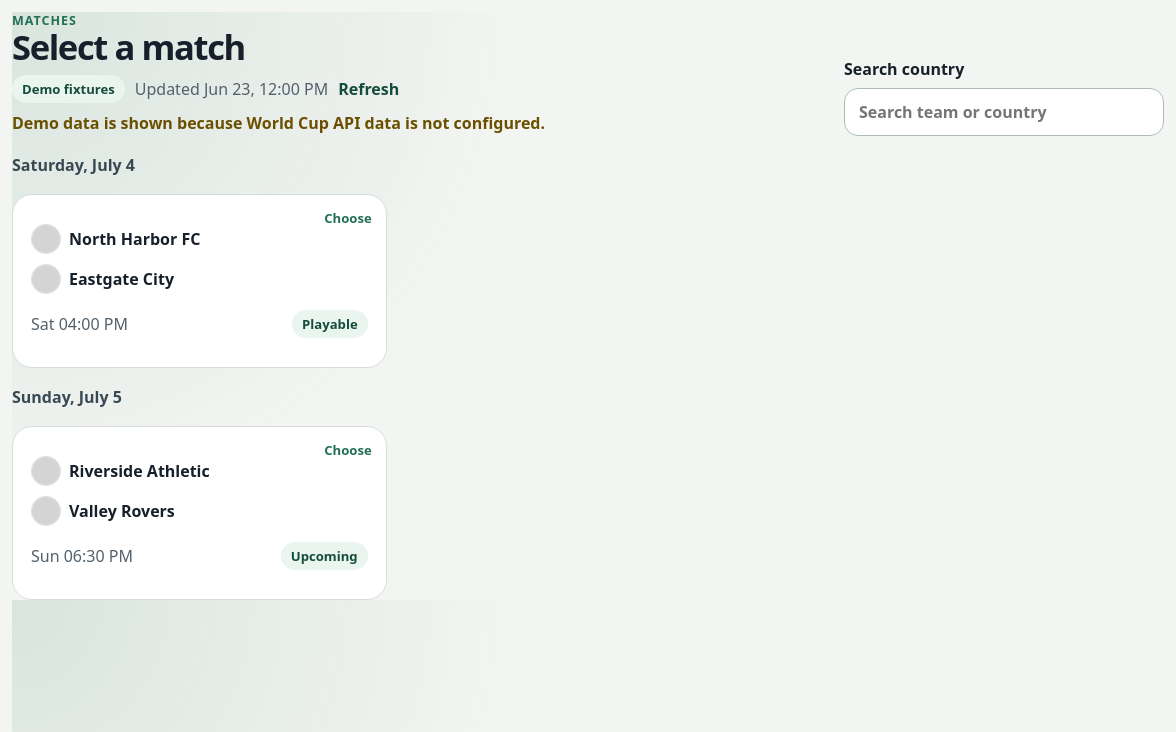
Test: DemoMatchList › refreshes matches without allowing request spam
Click the button "Refresh" at (369, 89), box [338,78,399,100]
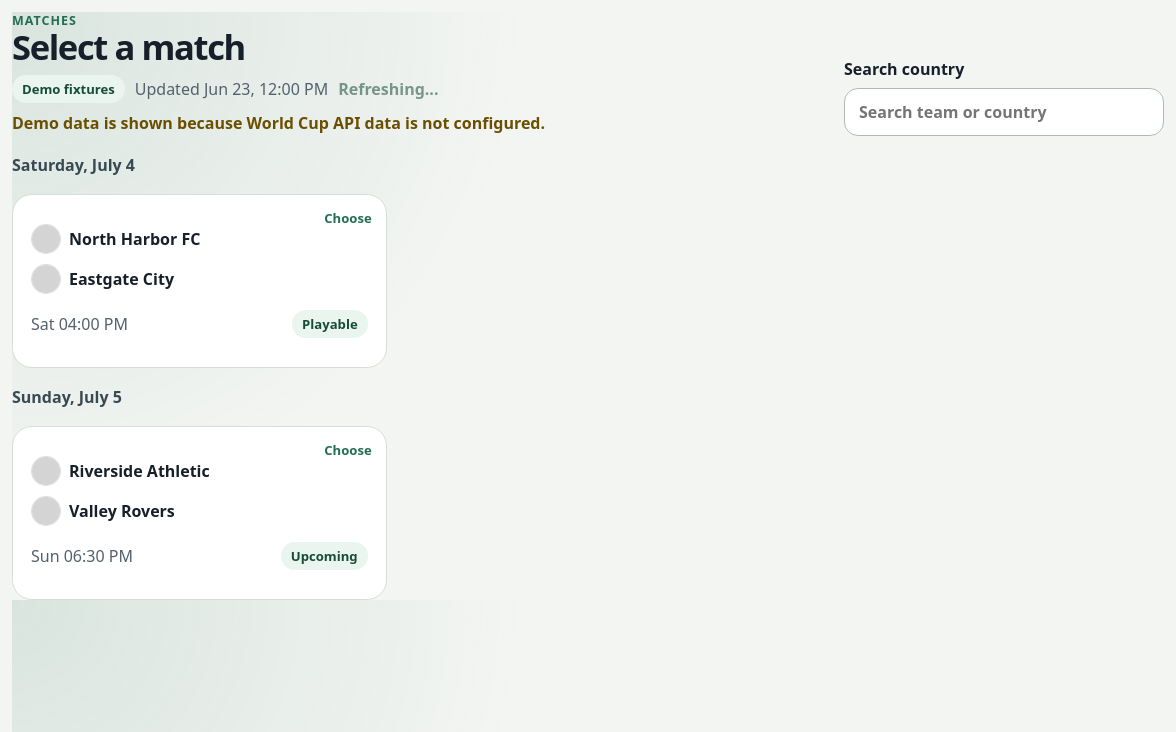
expect the button "Refreshing..." is disabled: met, box [338,78,438,100]
expect the button "Refreshing..." is shown: met, box [338,78,438,100]
